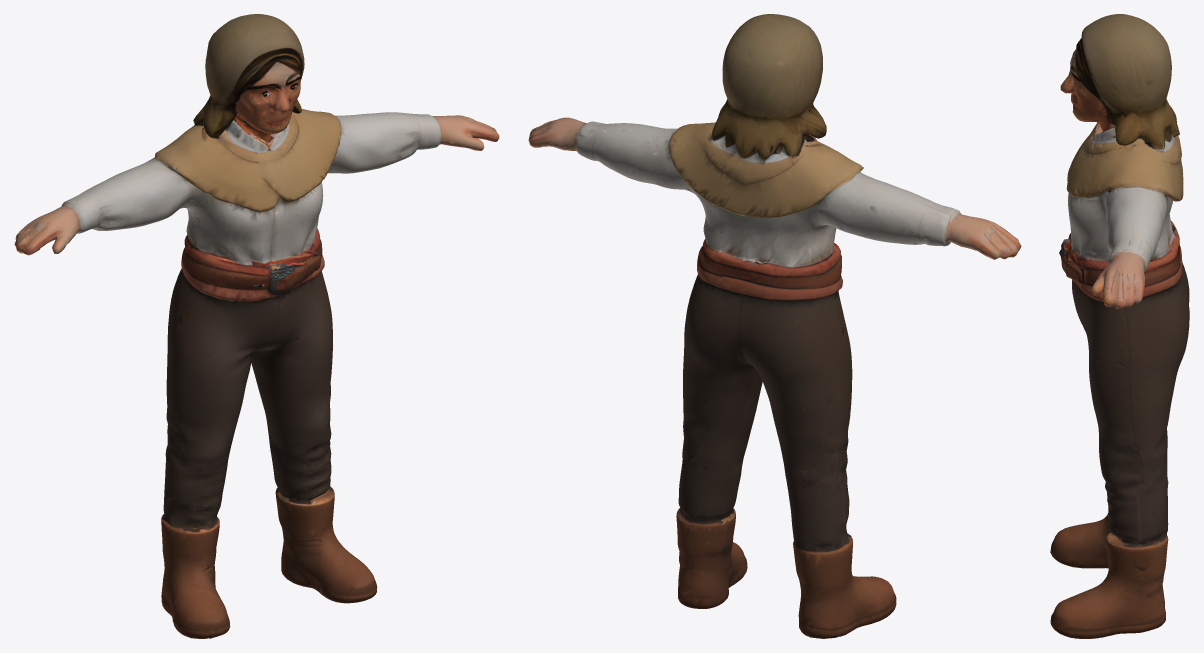
The model's file is dona_rosario.glb.
3 views of the same model, side by side, from view 1: azimuth 30°, elevation 25°; view 2: azimuth 150°, elevation 25°; view 3: azimuth 270°, elevation 25° (orthographic). The views are drawn at different scales.
Parts seen in each view (by area): view 1: dona_rosario; view 2: dona_rosario; view 3: dona_rosario.
Part boxes in pixels (<box>): dona_rosario: <box>14,14,499,638</box>; dona_rosario: <box>528,14,1021,638</box>; dona_rosario: <box>1050,14,1189,638</box>.
Size of the model in its own units: 1.36 by 1.58 by 0.3467.
1 material, 1 textured.
